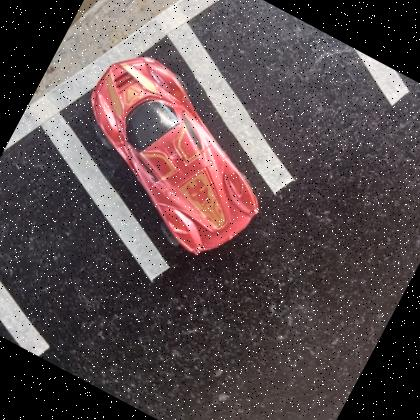Car: (89, 54, 260, 254)
